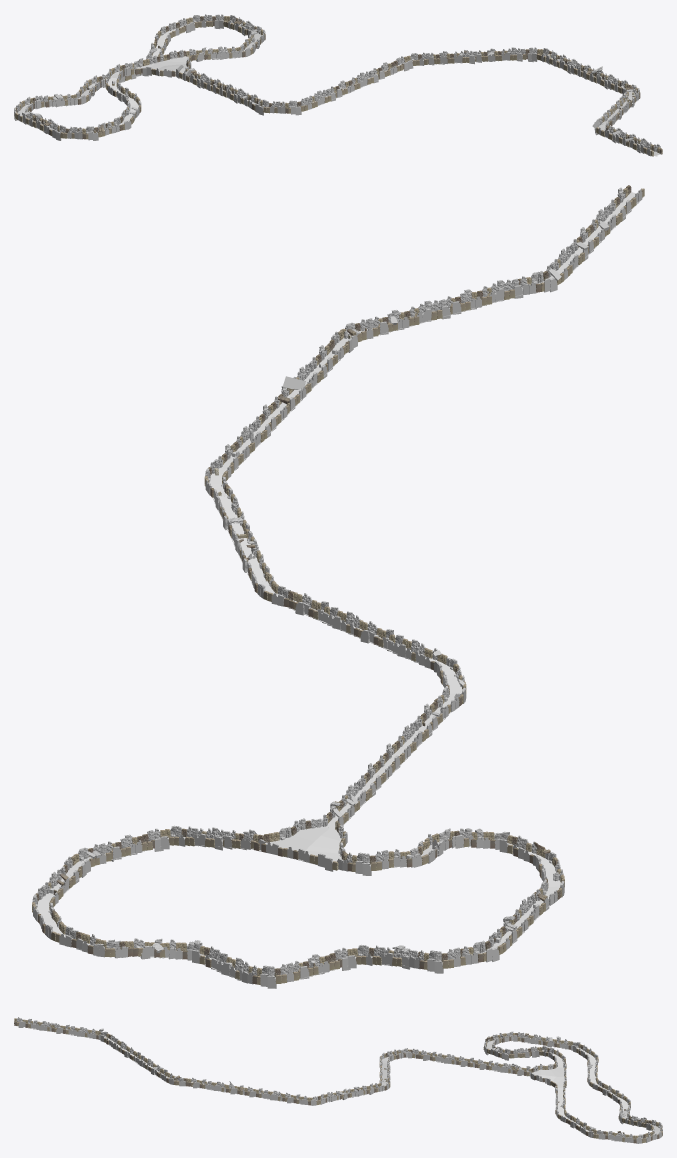
The model's file is AA_Level1_DZWONY.fbx.
3 views of the same model, one above another, from view 1: azimuth 30°, elevation 25°; view 2: azimuth 150°, elevation 25°; view 3: azimuth 270°, elevation 25° (orthographic). The views are drawn at different scales.
Parts seen in each view (by area): view 1: Ground.103; view 2: Ground.103; view 3: Ground.103.
Boxes of the visible parts, x1=… form: Ground.103: x1=136, y1=56, x2=192, y2=75; Ground.103: x1=259, y1=826, x2=341, y2=865; Ground.103: x1=532, y1=1067, x2=564, y2=1087.
Size of the model in its own units: 33809 by 16947 by 67887.
